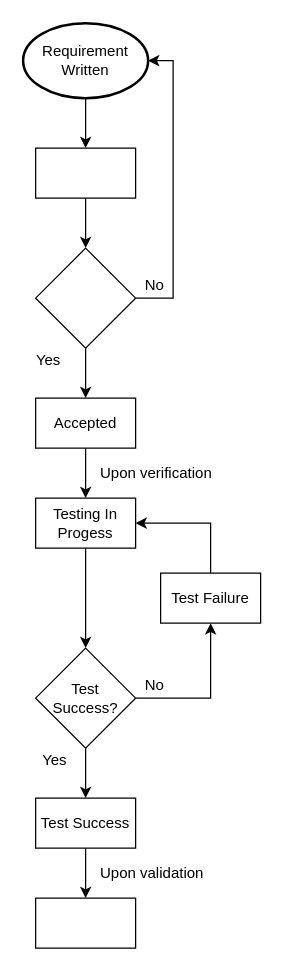
The diagram is 283 pixels wide and 970 high, and some of its shapes have lost their labels. Here are the shapes that lost their labels. From the top down, the centre of each, then its label:
the point at 85,172: Under Review
the point at 85,297: Approved?
the point at 85,922: Delivered
